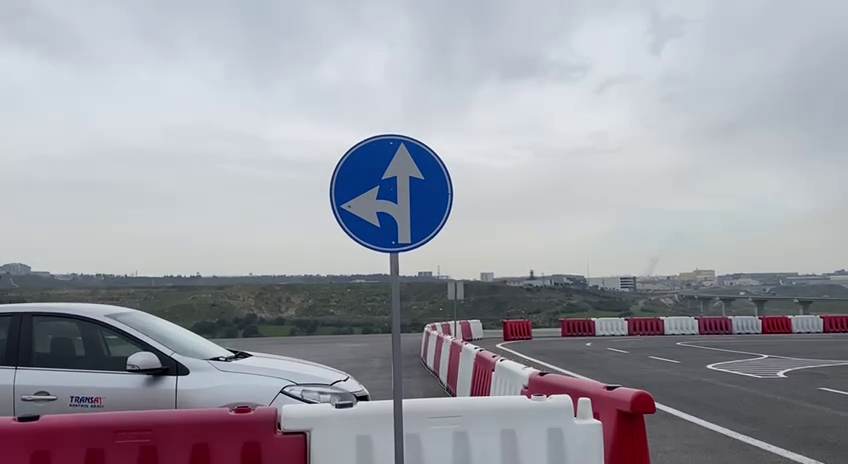forwardAndLeft: (327, 130, 456, 257)
